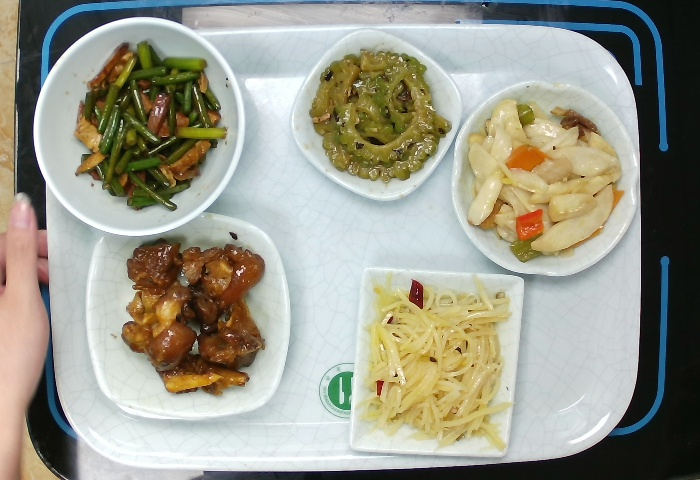JYsf-Ao_Yuan_Wan: (446, 74, 642, 284)
JYsf-Fan_Wan: (28, 12, 250, 242)
JYsf-Si_Fang_Die: (285, 27, 469, 208)
WCQzf-Da_Si_Fang_Die: (79, 203, 296, 426)
WCQzf-Ru_Ci_Si_Fang_Die: (345, 254, 531, 466)
